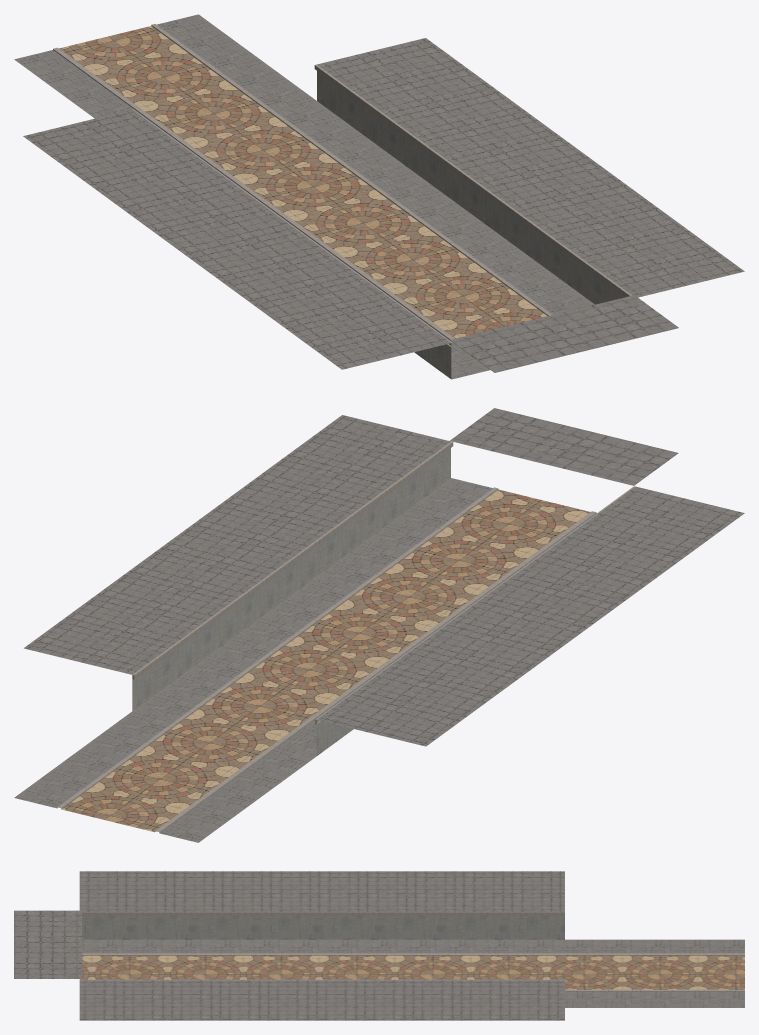
Rendered from TownGroundTile_I.fbx.
3 renders of one model, top to bottom at view 1: azimuth 30°, elevation 25°; view 2: azimuth 150°, elevation 25°; view 3: azimuth 270°, elevation 25°, orthographic. The views are drawn at different scales.
Visible parts, largest first — view 1: TownGroundTile_I; view 2: TownGroundTile_I; view 3: TownGroundTile_I.
Boxes of the visible parts, x1=… form: TownGroundTile_I: x1=14, y1=14, x2=744, y2=379; TownGroundTile_I: x1=14, y1=408, x2=744, y2=842; TownGroundTile_I: x1=14, y1=871, x2=744, y2=1020.
Bounding box in the file's own units: 2653 × 241 × 5482.
Materials: 5 (5 with a texture image).
